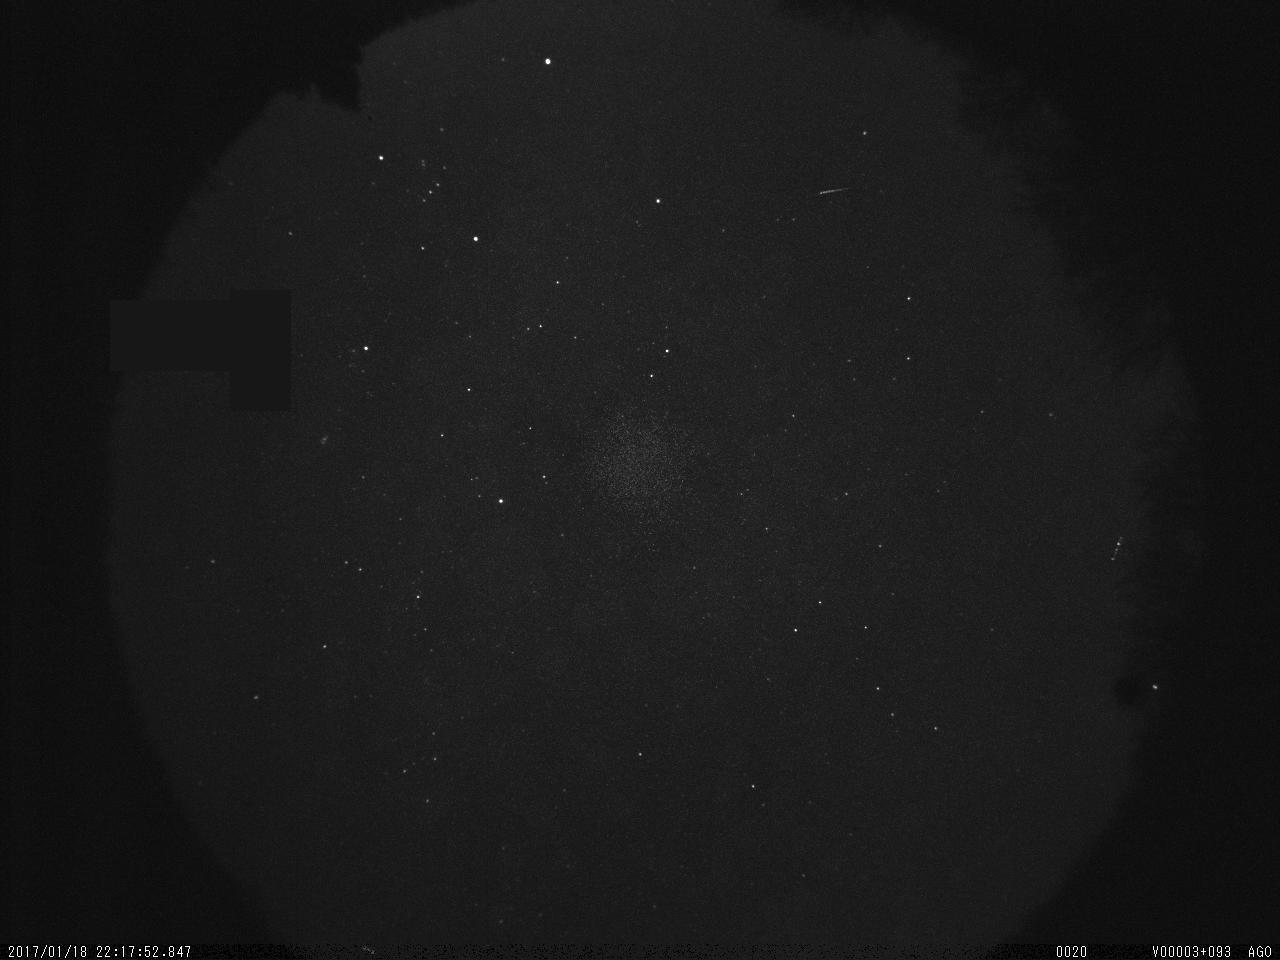meteor: (791, 170, 864, 213)
